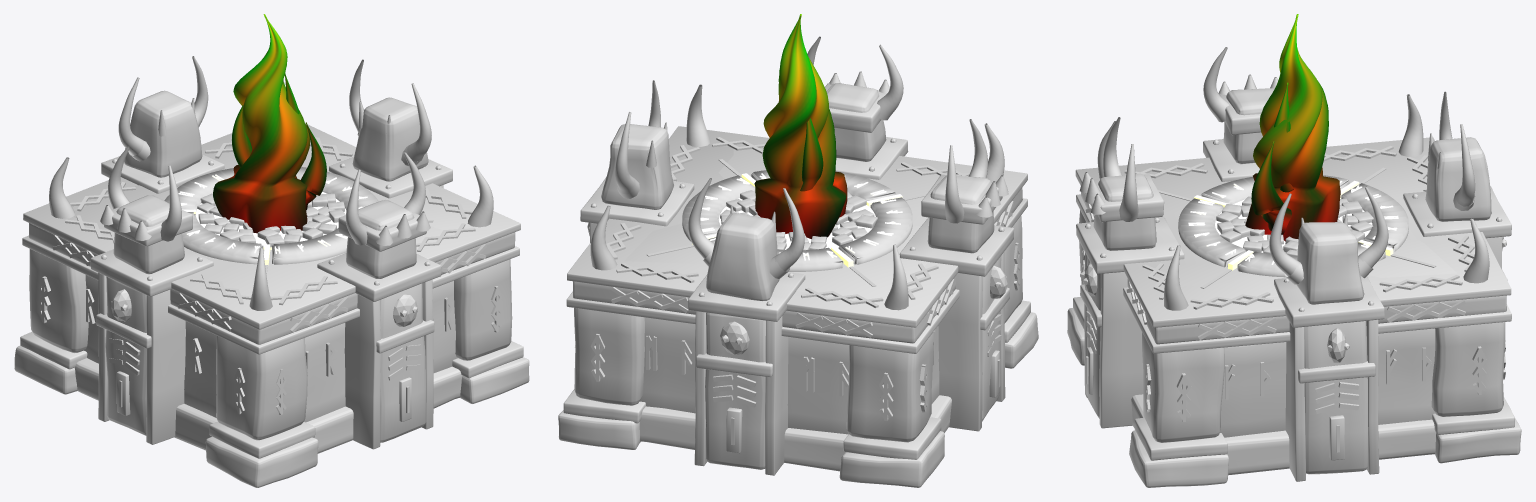
Rendered from Ext4_Yagluth.fbx.
3 views of the same model, side by side, from view 1: azimuth 30°, elevation 25°; view 2: azimuth 150°, elevation 25°; view 3: azimuth 270°, elevation 25° (orthographic). The views are drawn at different scales.
Visible parts, largest first — view 1: Altar_GoldCorniceTopRim, FlameCore_UnifiedMonolith, Altar_CoreStoneWall, Corner_StoneButtress_0, MidTotemPillar_3_BlackMetalCheek_1, MidTotemPillar_0_BlackMetalCheek_-1, MidTotemPillar_2_BackMonolithRock, Corner_StoneButtress_1, MidTotemPillar_0_LowerColumn, Altar_LowerPlinth, Corner_StoneButtress_3, MidTotemPillar_1_BackMonolithRock (+40 smaller); view 2: Altar_GoldCorniceTopRim, FlameCore_UnifiedMonolith, Altar_CoreStoneWall, Corner_StoneButtress_3, Deck_MainStoneFloor, MidTotemPillar_2_LowerColumn, Corner_StoneButtress_2, MidTotemPillar_3_BlackMetalCheek_-1, MidTotemPillar_2_BackMonolithRock, Altar_LowerPlinth, MidTotemPillar_1_BackMonolithRock, Altar_GoldCorniceBody (+38 smaller); view 3: Altar_GoldCorniceTopRim, Altar_CoreStoneWall, FlameCore_UnifiedMonolith, MidTotemPillar_1_LowerColumn, Deck_MainStoneFloor, Corner_StoneButtress_1, Corner_StoneButtress_2, MidTotemPillar_0_BlackMetalCheek_1, Altar_LowerPlinth, MidTotemPillar_1_BackMonolithRock, MidTotemPillar_2_BackMonolithRock, Altar_GoldCorniceBottomLip (+34 smaller).
Boxes of the visible parts, left/top/right/bottom form: Altar_GoldCorniceTopRim: left=23, top=123, right=520, bottom=329; FlameCore_UnifiedMonolith: left=213, top=14, right=310, bottom=233; Altar_CoreStoneWall: left=84, top=275, right=457, bottom=422; Corner_StoneButtress_0: left=216, top=335, right=307, bottom=440; MidTotemPillar_3_BlackMetalCheek_1: left=146, top=289, right=185, bottom=444; MidTotemPillar_0_BlackMetalCheek_-1: left=344, top=294, right=380, bottom=449; MidTotemPillar_2_BackMonolithRock: left=124, top=90, right=202, bottom=177; Corner_StoneButtress_1: left=454, top=259, right=512, bottom=360; MidTotemPillar_0_LowerColumn: left=380, top=283, right=426, bottom=442; Altar_LowerPlinth: left=74, top=358, right=462, bottom=453; Corner_StoneButtress_3: left=29, top=249, right=88, bottom=352; MidTotemPillar_1_BackMonolithRock: left=352, top=97, right=428, bottom=181; Altar_GoldCorniceTopRim: left=567, top=126, right=1027, bottom=327; FlameCore_UnifiedMonolith: left=754, top=14, right=847, bottom=238; Altar_CoreStoneWall: left=639, top=317, right=939, bottom=434; Corner_StoneButtress_3: left=846, top=332, right=933, bottom=442; Deck_MainStoneFloor: left=624, top=144, right=927, bottom=302; MidTotemPillar_2_LowerColumn: left=705, top=312, right=765, bottom=469; Corner_StoneButtress_2: left=574, top=308, right=644, bottom=405; MidTotemPillar_3_BlackMetalCheek_-1: left=938, top=273, right=982, bottom=431; MidTotemPillar_2_BackMonolithRock: left=706, top=213, right=779, bottom=300; Altar_LowerPlinth: left=639, top=395, right=951, bottom=471; MidTotemPillar_1_BackMonolithRock: left=601, top=124, right=673, bottom=209; Altar_GoldCorniceBody: left=573, top=188, right=1022, bottom=343; Altar_GoldCorniceTopRim: left=1075, top=137, right=1511, bottom=327; Altar_CoreStoneWall: left=1220, top=328, right=1435, bottom=437; FlameCore_UnifiedMonolith: left=1245, top=14, right=1340, bottom=241; MidTotemPillar_1_LowerColumn: left=1304, top=321, right=1368, bottom=474; Deck_MainStoneFloor: left=1180, top=154, right=1456, bottom=303; Corner_StoneButtress_1: left=1142, top=332, right=1224, bottom=442; Corner_StoneButtress_2: left=1431, top=322, right=1505, bottom=416; MidTotemPillar_0_BlackMetalCheek_1: left=1099, top=272, right=1143, bottom=428; Altar_LowerPlinth: left=1131, top=394, right=1435, bottom=475; MidTotemPillar_1_BackMonolithRock: left=1296, top=222, right=1364, bottom=304; MidTotemPillar_2_BackMonolithRock: left=1425, top=137, right=1491, bottom=221; Altar_GoldCorniceBottomLip: left=1076, top=194, right=1511, bottom=353.
Size of the model in its own units: 112 by 104 by 113.
